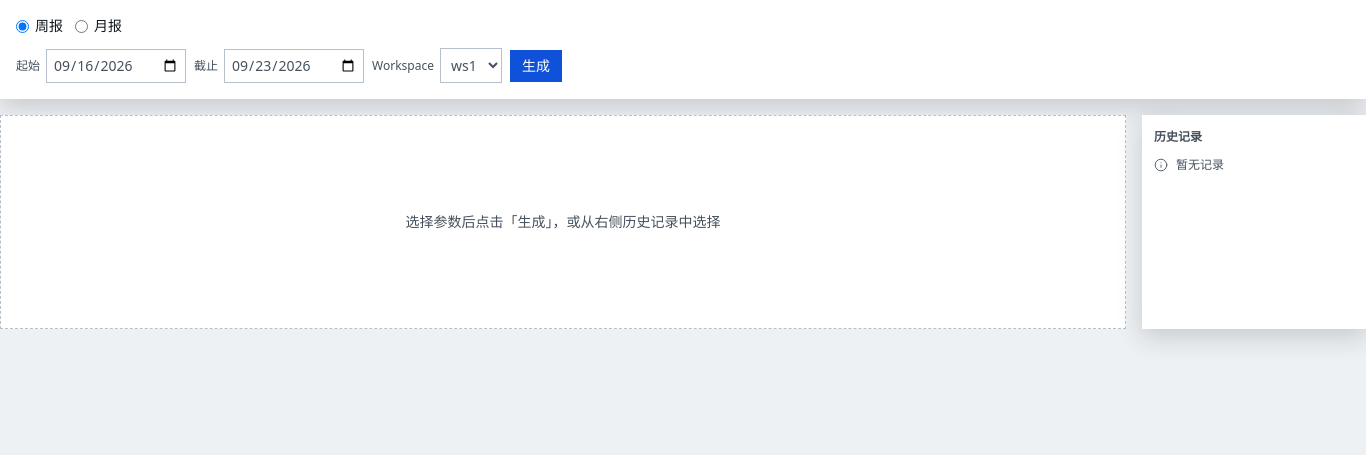
it: ReportView › clears the previous workspace coverage when a later generation fails
Click the button with test id "report-generate" at [536, 66], box [510, 50, 562, 82]
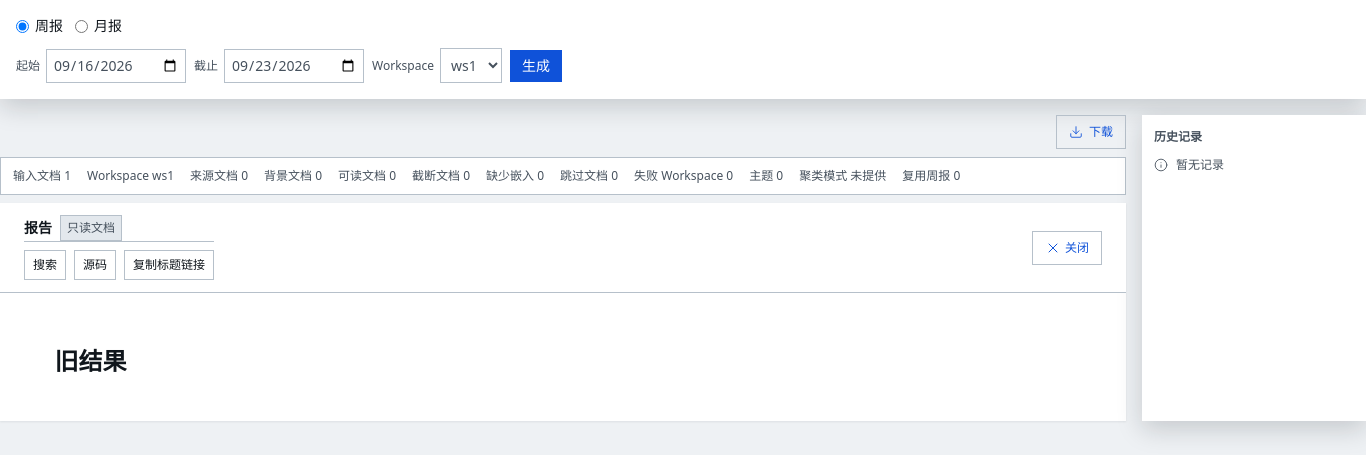
Expected: the element with test id "report-coverage" shows "Workspace ws1", [0, 157, 1126, 195]
Select "全部" in the dropdown with test id "report-workspace" at [471, 66], box [440, 48, 502, 83]
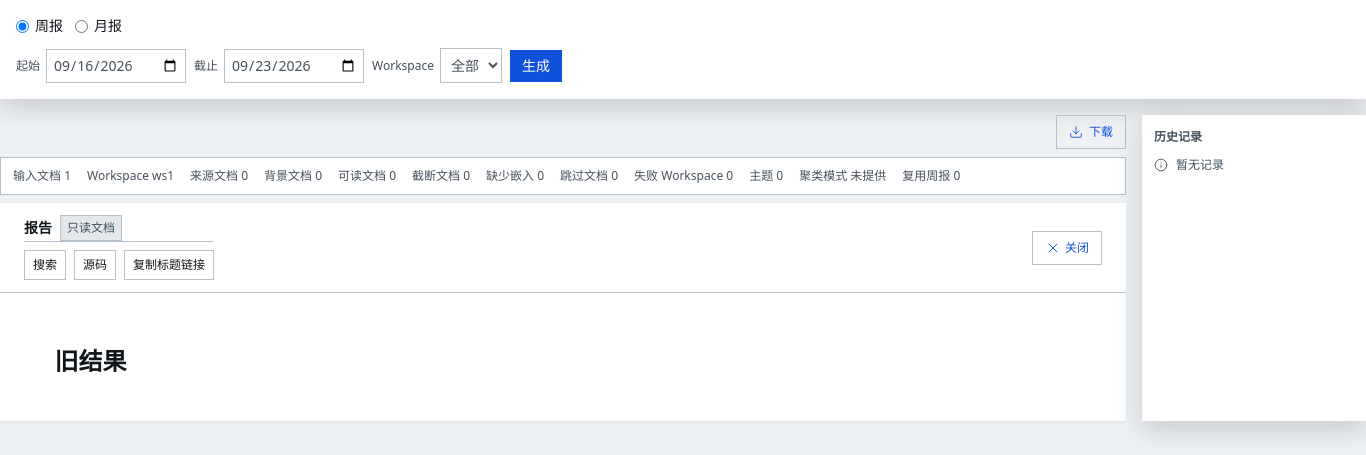
Click the button with test id "report-generate" at [536, 66], box [510, 50, 562, 82]
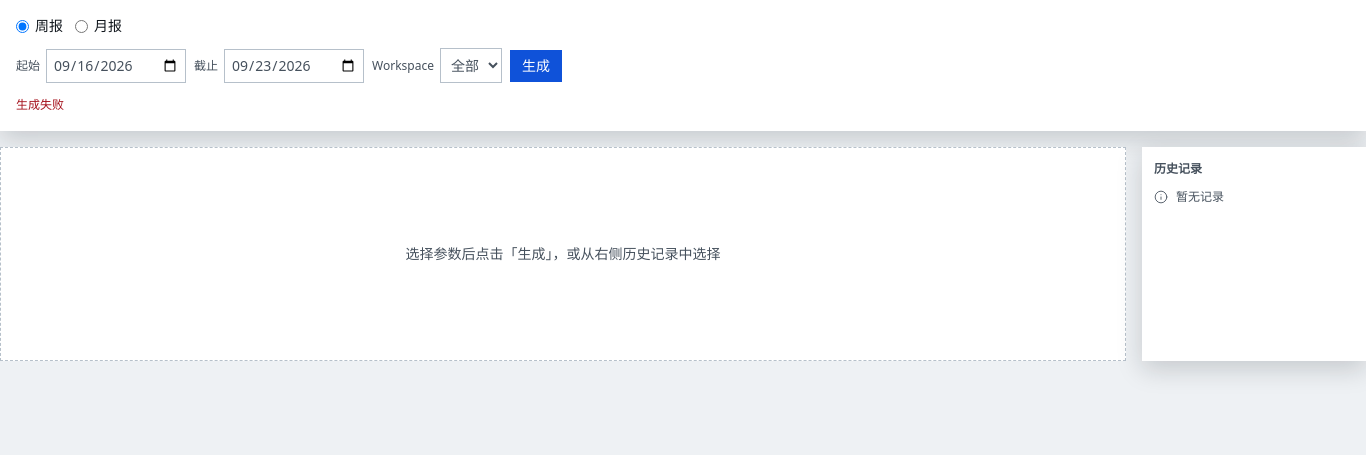
Expected: the text "生成失败" is shown, [16, 96, 64, 113]
Expected: the element with test id "report-coverage" is gone
